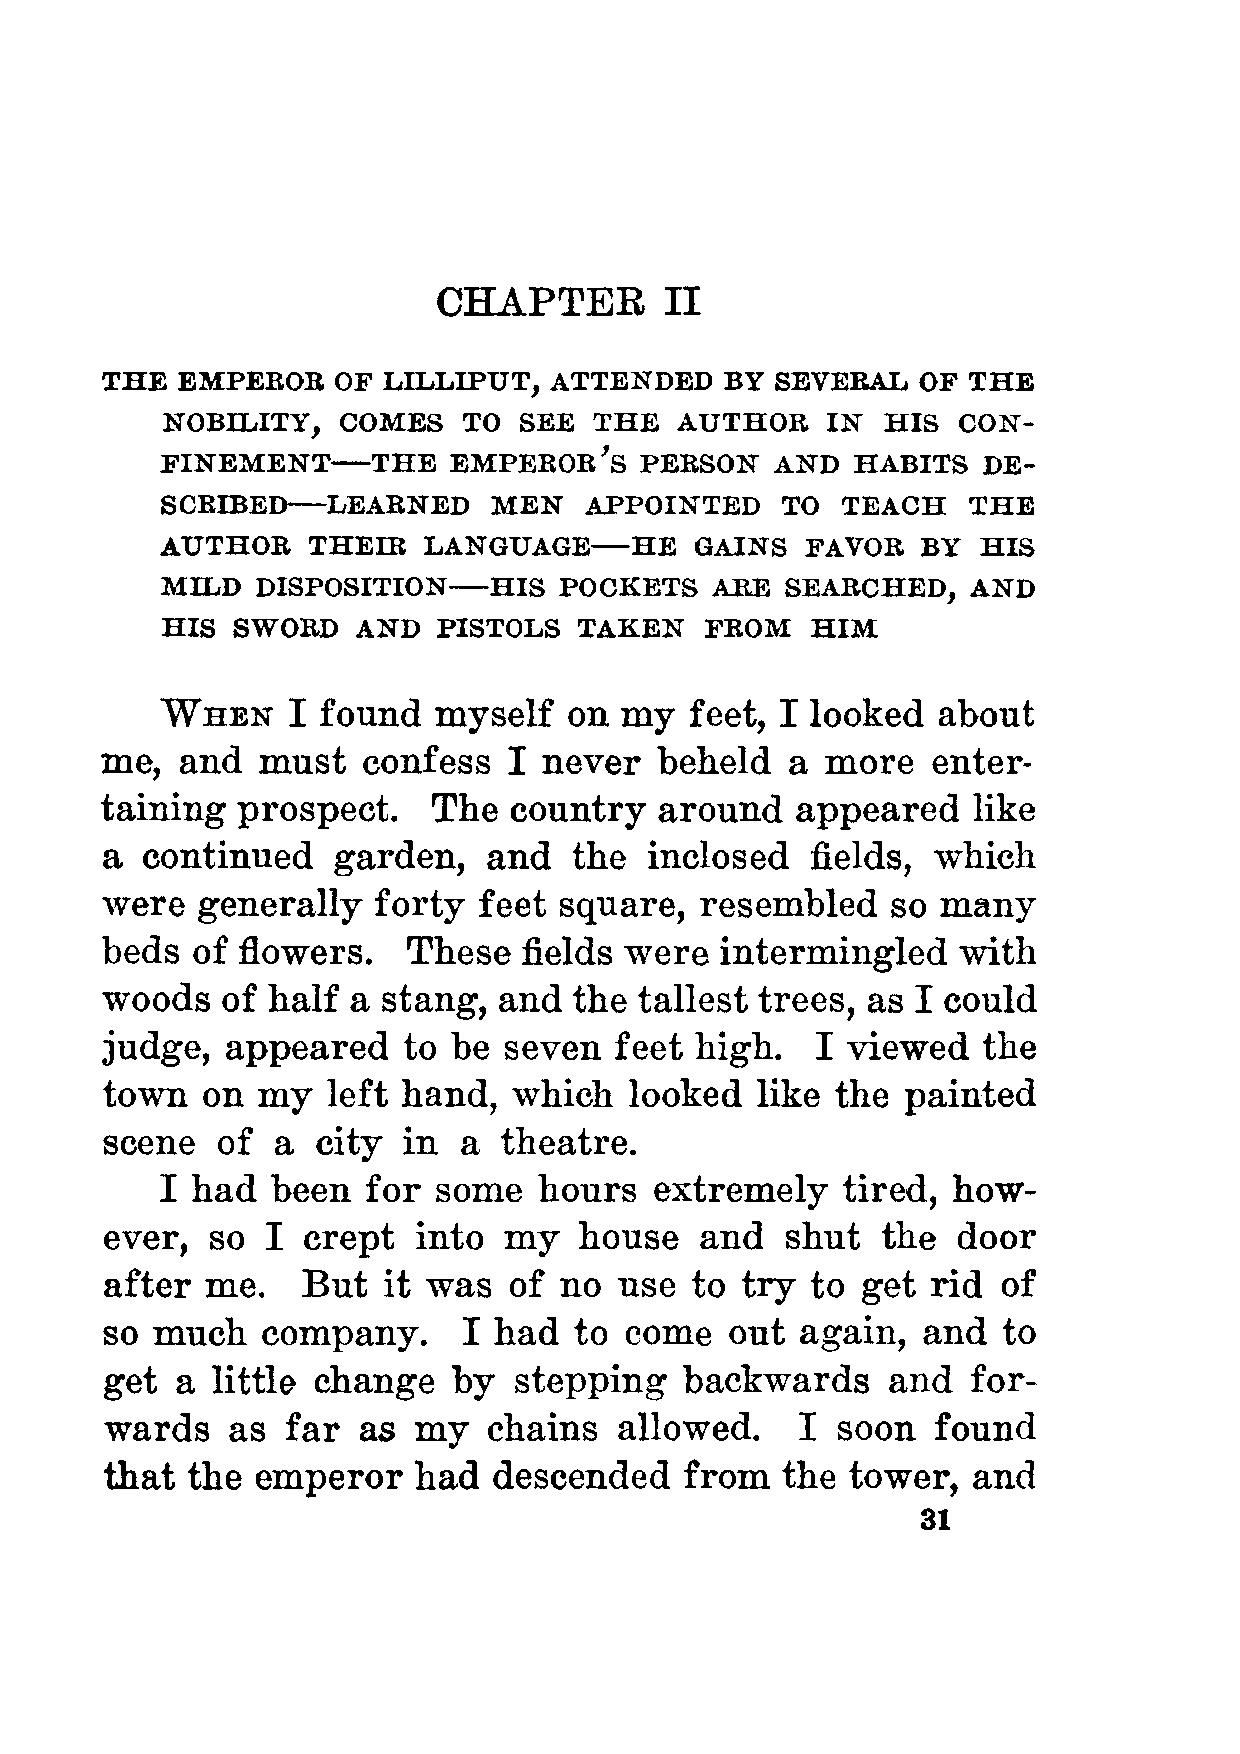chapter: (432, 278, 703, 319)
content: (97, 364, 1040, 1496)
content_pagenumber: (917, 1504, 953, 1533)
